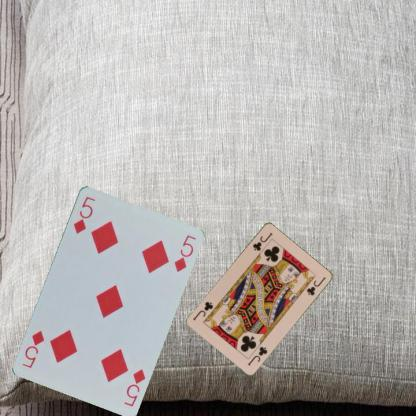5d: (70, 193, 96, 234), (121, 366, 147, 407)
Jc: (250, 230, 274, 252), (245, 344, 269, 366)
